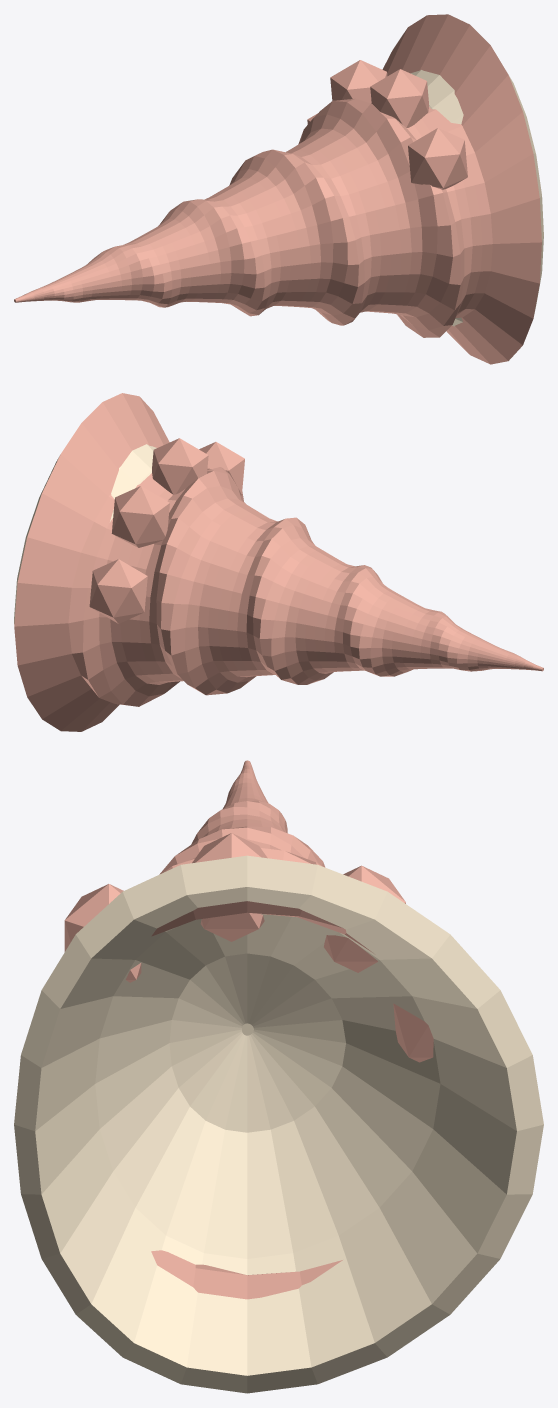
Rendered from shell-conch.glb.
3 views of the same model, one above another, from view 1: azimuth 30°, elevation 25°; view 2: azimuth 150°, elevation 25°; view 3: azimuth 270°, elevation 25° (orthographic). The views are drawn at different scales.
Parts seen in each view (by area): view 1: Pointed spiral conch and cream flared opening, Knobby conch shoulder.003, Knobby conch shoulder.002, Knobby conch shoulder.001; view 2: Pointed spiral conch and cream flared opening, Knobby conch shoulder, Knobby conch shoulder.001, Knobby conch shoulder.002, Knobby conch shoulder.003; view 3: Pointed spiral conch and cream flared opening, Knobby conch shoulder.002, Knobby conch shoulder.001, Knobby conch shoulder.003, Knobby conch shoulder.
Boxes of the visible parts, x1,y1,x2,y2 form: Pointed spiral conch and cream flared opening: (14, 14, 543, 364); Knobby conch shoulder.003: (408, 128, 467, 189); Knobby conch shoulder.002: (370, 69, 429, 127); Knobby conch shoulder.001: (330, 60, 387, 103); Pointed spiral conch and cream flared opening: (14, 393, 543, 731); Knobby conch shoulder: (89, 559, 147, 623); Knobby conch shoulder.001: (111, 486, 169, 547); Knobby conch shoulder.002: (152, 438, 208, 494); Knobby conch shoulder.003: (199, 442, 244, 495); Pointed spiral conch and cream flared opening: (14, 760, 543, 1393); Knobby conch shoulder.002: (192, 833, 267, 941); Knobby conch shoulder.001: (324, 865, 405, 972); Knobby conch shoulder.003: (64, 884, 141, 982); Knobby conch shoulder: (393, 1003, 433, 1062).
Bounding box in the file's own units: 2.17 × 1.48 × 1.32.
